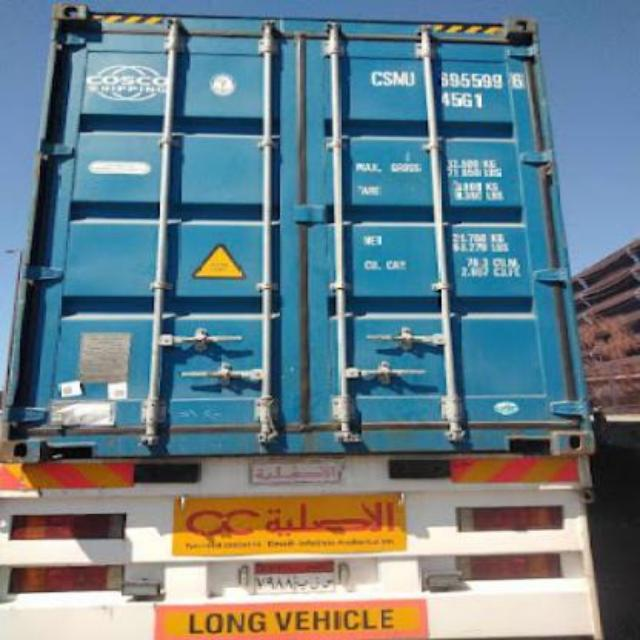5: (466, 65, 482, 91), (460, 65, 470, 91)
6: (510, 68, 526, 90), (436, 66, 448, 88)
9: (446, 62, 459, 90), (480, 67, 492, 97), (492, 67, 504, 93)
C: (368, 66, 382, 88)
N: (394, 66, 404, 94)
S: (382, 64, 394, 96)
U: (404, 63, 416, 93)
